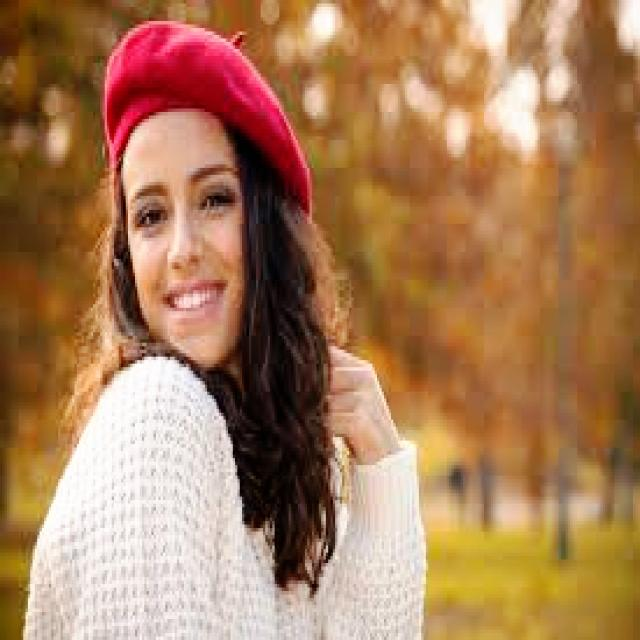TOPI: (93, 3, 314, 224)
